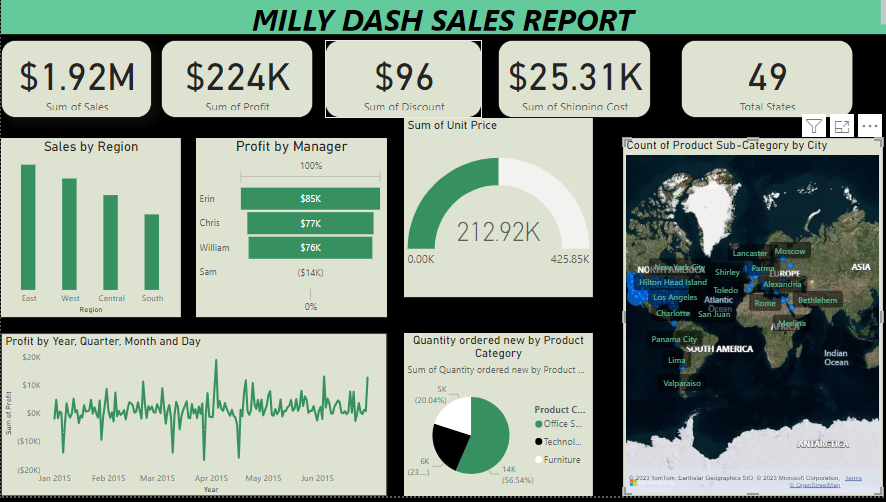

This screenshot's page, from the dashboard's own definition file:
{"tool":"powerbi","page":{"name":"Page 1","canvas":[1280,720],"ordinal":0},"visuals":[{"type":"map","fields":{"Category":["Orders.City"],"Size":["Orders.Product Sub-Category"]},"box":[895.7,204.5,374.4,515.5],"z":0},{"type":"textbox","box":[0,0,1280.2,54.7],"z":1000},{"type":"funnel","title":" Profit by Manager","fields":{"Y":["Orders.Profit"],"Category":["Users.Manager"]},"box":[280.8,204.5,275,257.8],"z":2000},{"type":"lineChart","title":" Profit by Year, Quarter, Month and Day","fields":{"Y":["Orders.Profit"],"Category":["Orders.Order Date.Variation.Date Hierarchy.Year","Orders.Order Date.Variation.Date Hierarchy.Quarter","Orders.Order Date.Variation.Date Hierarchy.Month","Orders.Order Date.Variation.Date Hierarchy.Day"]},"box":[0,485.3,555.8,234.7],"z":3000},{"type":"card","fields":{"Values":["Orders.Sales"]},"box":[0,63.4,217.4,112.3],"z":4000},{"type":"ribbonChart","title":" Sales by Region","fields":{"Category":["Orders.Region"],"Y":["Orders.Sales"]},"box":[0,204.5,259.2,257.8],"z":5000},{"type":"gauge","fields":{"Y":["Orders.Unit Price"]},"box":[580.3,175.7,272.2,257.8],"z":6000},{"type":"card","fields":{"Values":["Orders.Profit"]},"box":[230.4,63.4,218.9,112.3],"z":7000},{"type":"pieChart","title":" Quantity ordered new by Product Category","fields":{"Y":["Orders.Quantity ordered new"],"Category":["Orders.Product Category"]},"box":[580,485,272,235],"z":8000},{"type":"card","fields":{"Values":["Orders.Discount"]},"box":[466.6,63.4,226.1,112.3],"z":9000},{"type":"card","fields":{"Values":["Orders.Shipping Cost"]},"box":[715.7,63.4,220.3,112.3],"z":10000},{"type":"card","fields":{"Values":["Orders.Total States"]},"box":[979.2,63.4,247.7,112.3],"z":11000}]}

Visuals, with their boxes in screenshot pixels (x1, y1, x2, y2), scaled from the page's 1280x720 canvas onto the 886x502 screenshot:
map - Orders.City x Orders.Product Sub-Category: region(620, 143, 879, 501)
textbox: region(0, 0, 885, 38)
" Profit by Manager" funnel: region(194, 143, 385, 322)
" Profit by Year, Quarter, Month and Day" lineChart: region(0, 338, 385, 501)
card - Orders.Sales: region(0, 44, 150, 123)
" Sales by Region" ribbonChart: region(0, 143, 179, 322)
gauge - Orders.Unit Price: region(402, 123, 590, 302)
card - Orders.Profit: region(159, 44, 311, 123)
" Quantity ordered new by Product Category" pieChart: region(401, 338, 590, 501)
card - Orders.Discount: region(323, 44, 479, 123)
card - Orders.Shipping Cost: region(495, 44, 648, 123)
card - Orders.Total States: region(678, 44, 849, 123)
